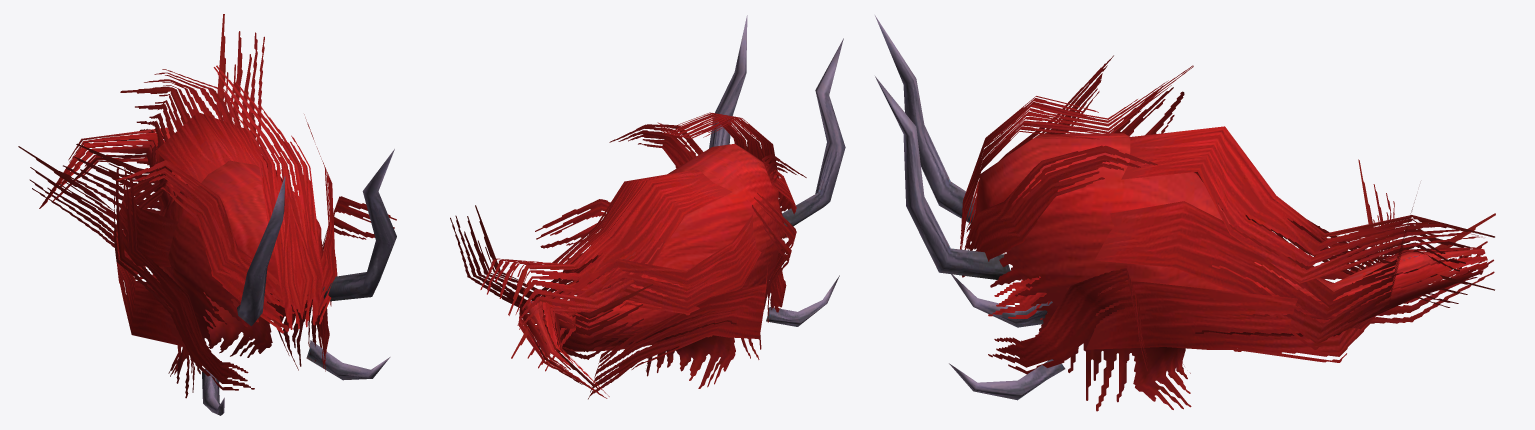
Rendered from chinaman_hwan_hair.glb.
The picture shows the model from 3 angles, left to right: view 1: azimuth 30°, elevation 25°; view 2: azimuth 150°, elevation 25°; view 3: azimuth 270°, elevation 25°; orthographic projection. The views are drawn at different scales.
Visible parts, largest first — view 1: hwan_hair_part1, hwan_hair_part2_part1, hwan_hair_part2_part2_part2, hwan_hair_part2_part2_part1; view 2: hwan_hair_part2_part2_part1, hwan_hair_part1, hwan_hair_part2_part2_part2, hwan_hair_part2_part1; view 3: hwan_hair_part1, hwan_hair_part2_part2_part1, hwan_hair_part2_part1, hwan_hair_part2_part2_part2.
Part boxes in pixels (bbox=[...]): hwan_hair_part1: bbox=[116, 133, 396, 415]; hwan_hair_part2_part1: bbox=[113, 65, 396, 398]; hwan_hair_part2_part2_part2: bbox=[18, 14, 264, 261]; hwan_hair_part2_part2_part1: bbox=[113, 151, 282, 376]; hwan_hair_part2_part2_part1: bbox=[539, 180, 766, 388]; hwan_hair_part1: bbox=[601, 15, 845, 326]; hwan_hair_part2_part2_part2: bbox=[450, 205, 652, 399]; hwan_hair_part2_part1: bbox=[535, 122, 806, 371]; hwan_hair_part1: bbox=[875, 15, 1174, 411]; hwan_hair_part2_part2_part1: bbox=[1158, 127, 1339, 409]; hwan_hair_part2_part1: bbox=[1101, 55, 1241, 401]; hwan_hair_part2_part2_part2: bbox=[1293, 159, 1495, 362].
Bounding box in the file's own units: 0.3675 × 0.3516 × 0.5945.
Materials: 1 (1 with a texture image).
